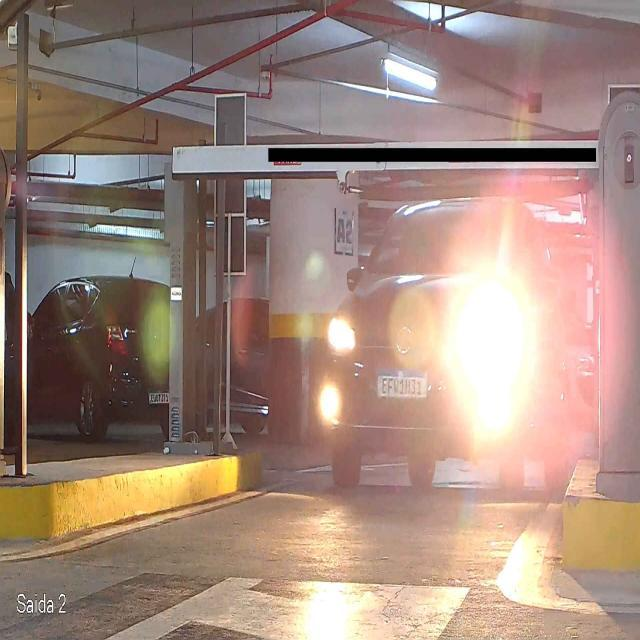mercosul_plate: (375, 368, 429, 400)
